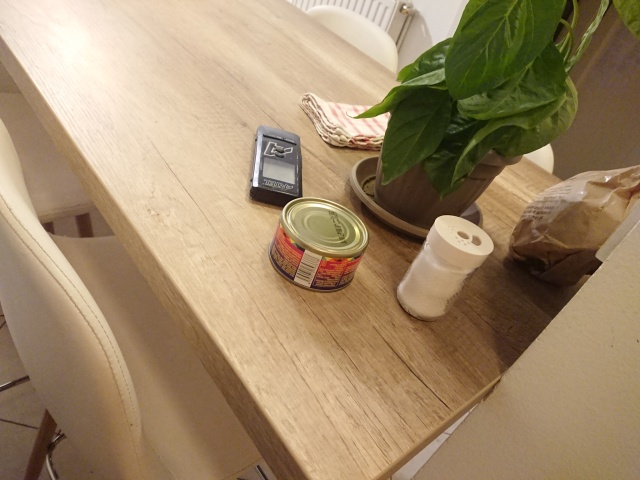Giana Tuna Salad Mexico 185g: (266, 196, 372, 296)
